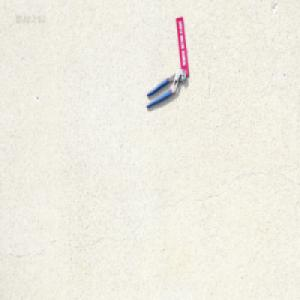Label: (175, 16, 189, 76)
Pliers: (145, 67, 187, 110)
